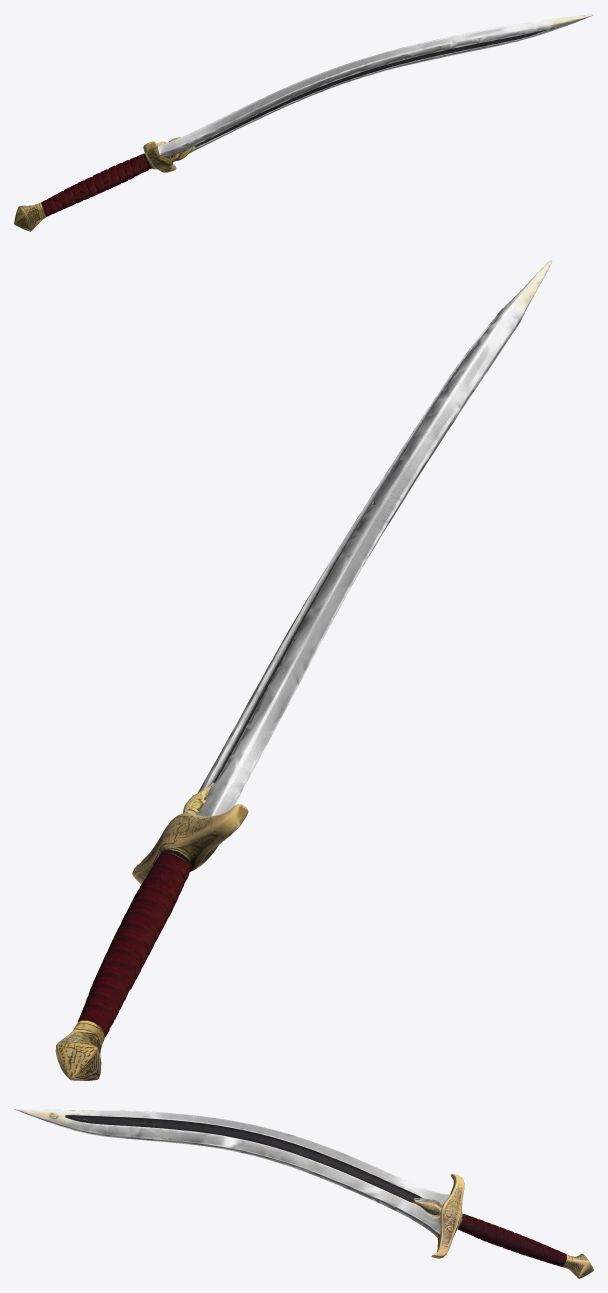
File: slingblade.glb
3 views of the same model, one above another, from view 1: azimuth 90°, elevation 25°; view 2: azimuth 150°, elevation 25°; view 3: azimuth 270°, elevation 25° (orthographic). The views are drawn at different scales.
Parts seen in each view (by area): view 1: mesh_node; view 2: mesh_node; view 3: mesh_node.
Boxes of the visible parts, bbox=[...] form: mesh_node: bbox=[14, 14, 593, 231]; mesh_node: bbox=[55, 260, 552, 1080]; mesh_node: bbox=[14, 1109, 593, 1278].
Bounding box in the file's own units: 16.83 × 43.24 × 119.
1 material, 1 textured.
